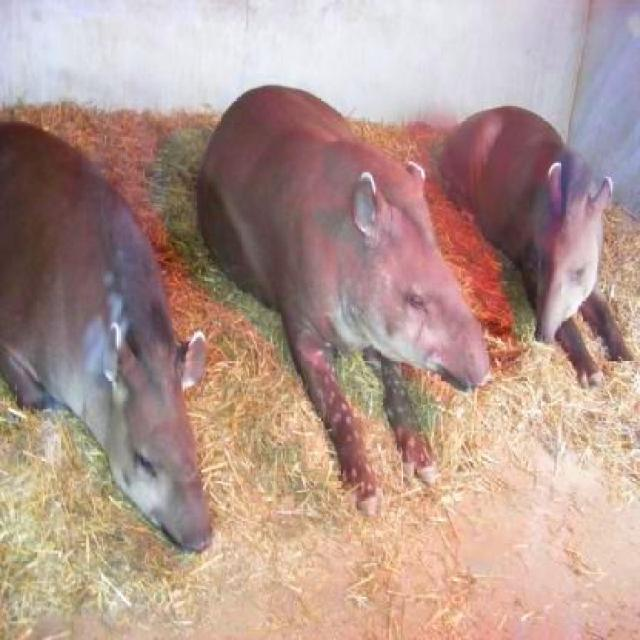Boar: (195, 82, 492, 516), (1, 118, 216, 554), (436, 102, 632, 390)
